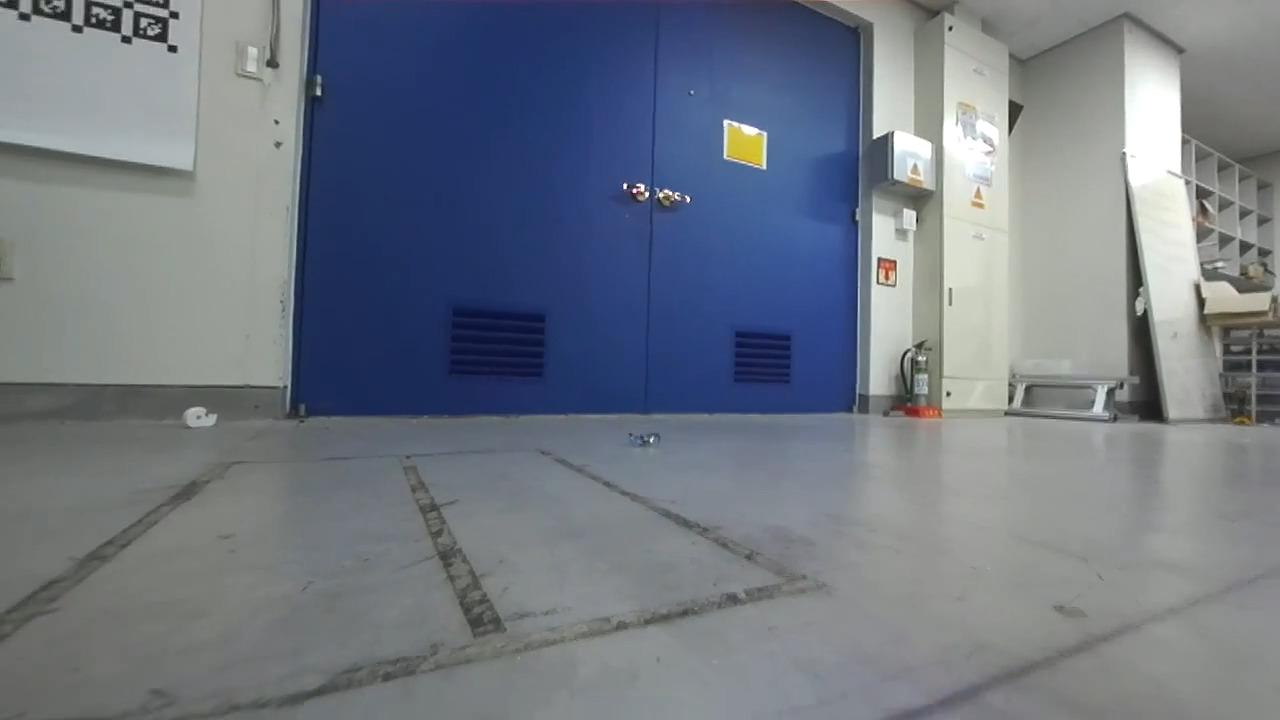crazyflie: (622, 425, 674, 451)
